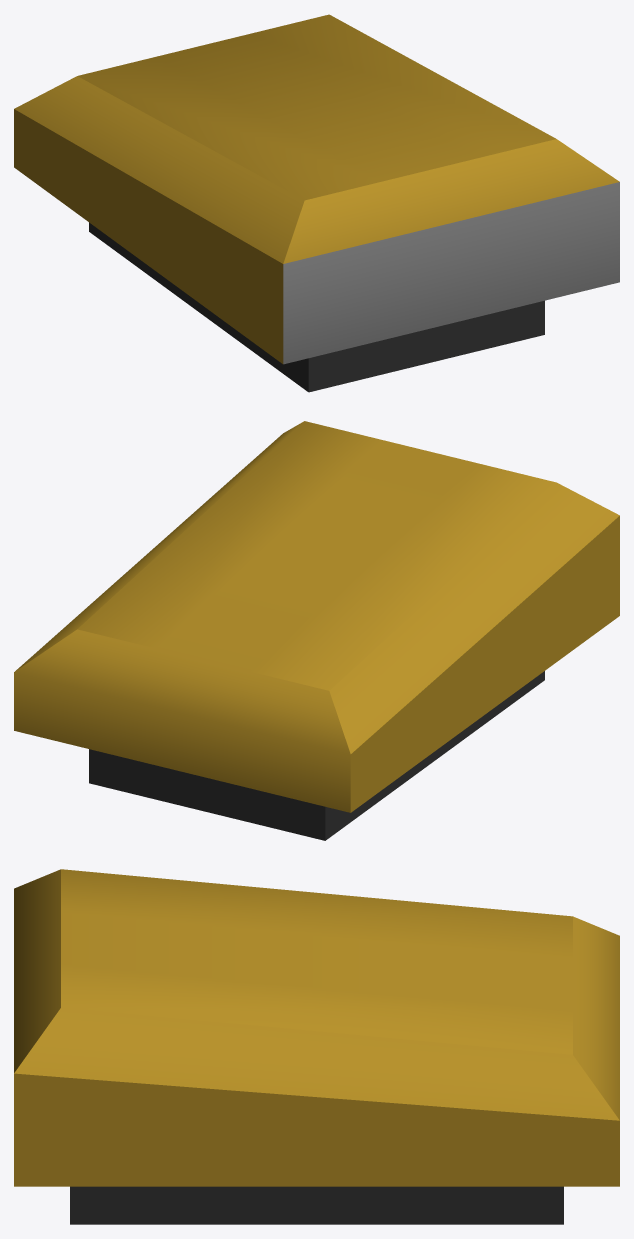
File: Engine_Air_Intake_0.fbx
3 views of the same model, one above another, from view 1: azimuth 30°, elevation 25°; view 2: azimuth 150°, elevation 25°; view 3: azimuth 270°, elevation 25° (orthographic). The views are drawn at different scales.
Parts seen in each view (by area): view 1: Engine_Air_Intake_0; view 2: Engine_Air_Intake_0; view 3: Engine_Air_Intake_0.
Boxes of the visible parts, <box> form: Engine_Air_Intake_0: <box>14,14,619,392</box>; Engine_Air_Intake_0: <box>14,421,619,840</box>; Engine_Air_Intake_0: <box>14,869,619,1224</box>.
Bounding box in the file's own units: 43.57 × 24.33 × 60.33.
